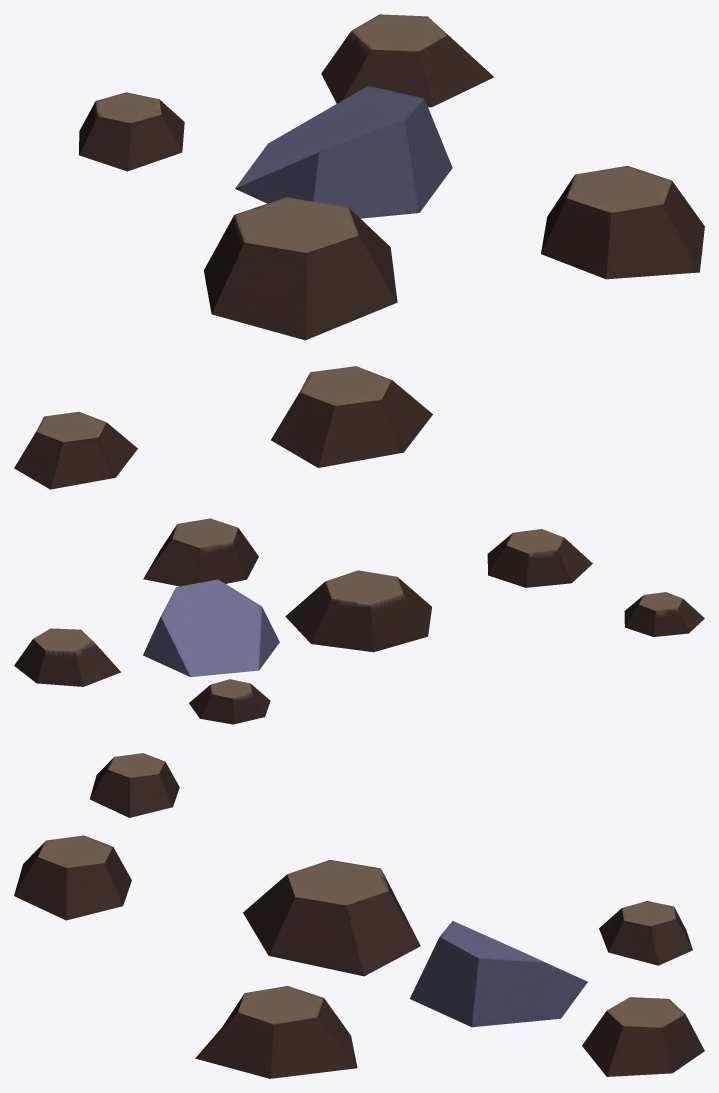
Rendered from tile_wood_4_ruin_lod2.fbx.
The picture shows the model from 3 angles, top to bottom: view 1: azimuth 30°, elevation 25°; view 2: azimuth 150°, elevation 25°; view 3: azimuth 270°, elevation 25°; orthographic projection. The views are drawn at different scales.
Visible parts, largest first — view 1: wood_4_ruin_lod2; view 2: wood_4_ruin_lod2; view 3: wood_4_ruin_lod2.
Part boxes in pixels (bbox=[...]): wood_4_ruin_lod2: bbox=[14, 14, 704, 489]; wood_4_ruin_lod2: bbox=[14, 518, 704, 724]; wood_4_ruin_lod2: bbox=[14, 753, 704, 1078].
Size of the model in its own units: 0.0504 by 0.0049 by 0.0481.
